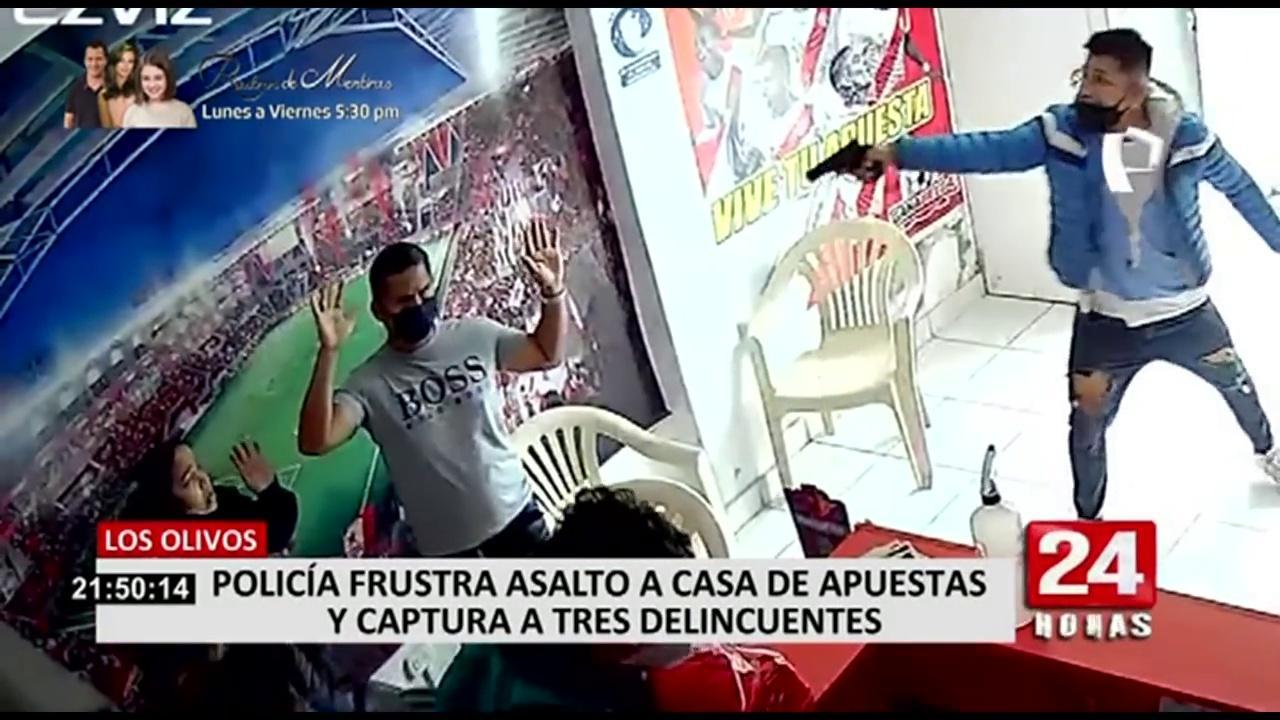Guns: (787, 120, 903, 202)
